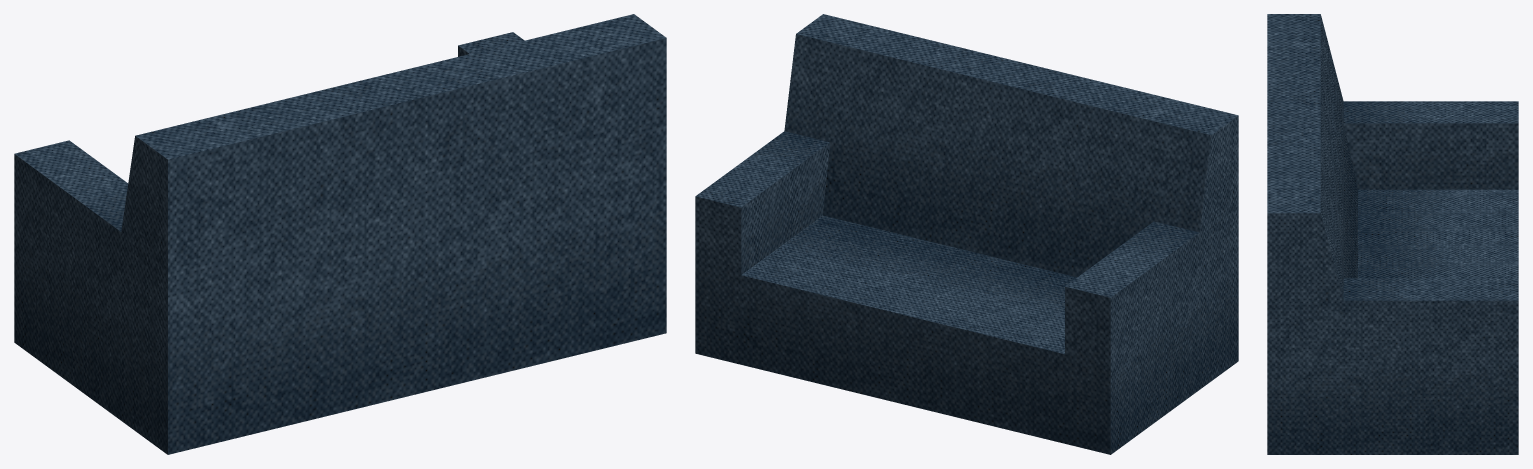
Rendered from Sofa.fbx.
The picture shows the model from 3 angles, left to right: view 1: azimuth 30°, elevation 25°; view 2: azimuth 150°, elevation 25°; view 3: azimuth 270°, elevation 25°; orthographic projection. The views are drawn at different scales.
Visible parts, largest first — view 1: Cube.013; view 2: Cube.013; view 3: Cube.013.
Part boxes in pixels (left/top/right/bottom): Cube.013: left=14, top=14, right=666, bottom=454; Cube.013: left=695, top=14, right=1238, bottom=454; Cube.013: left=1267, top=14, right=1518, bottom=454.
Size of the model in its own units: 541 by 306 by 289.
